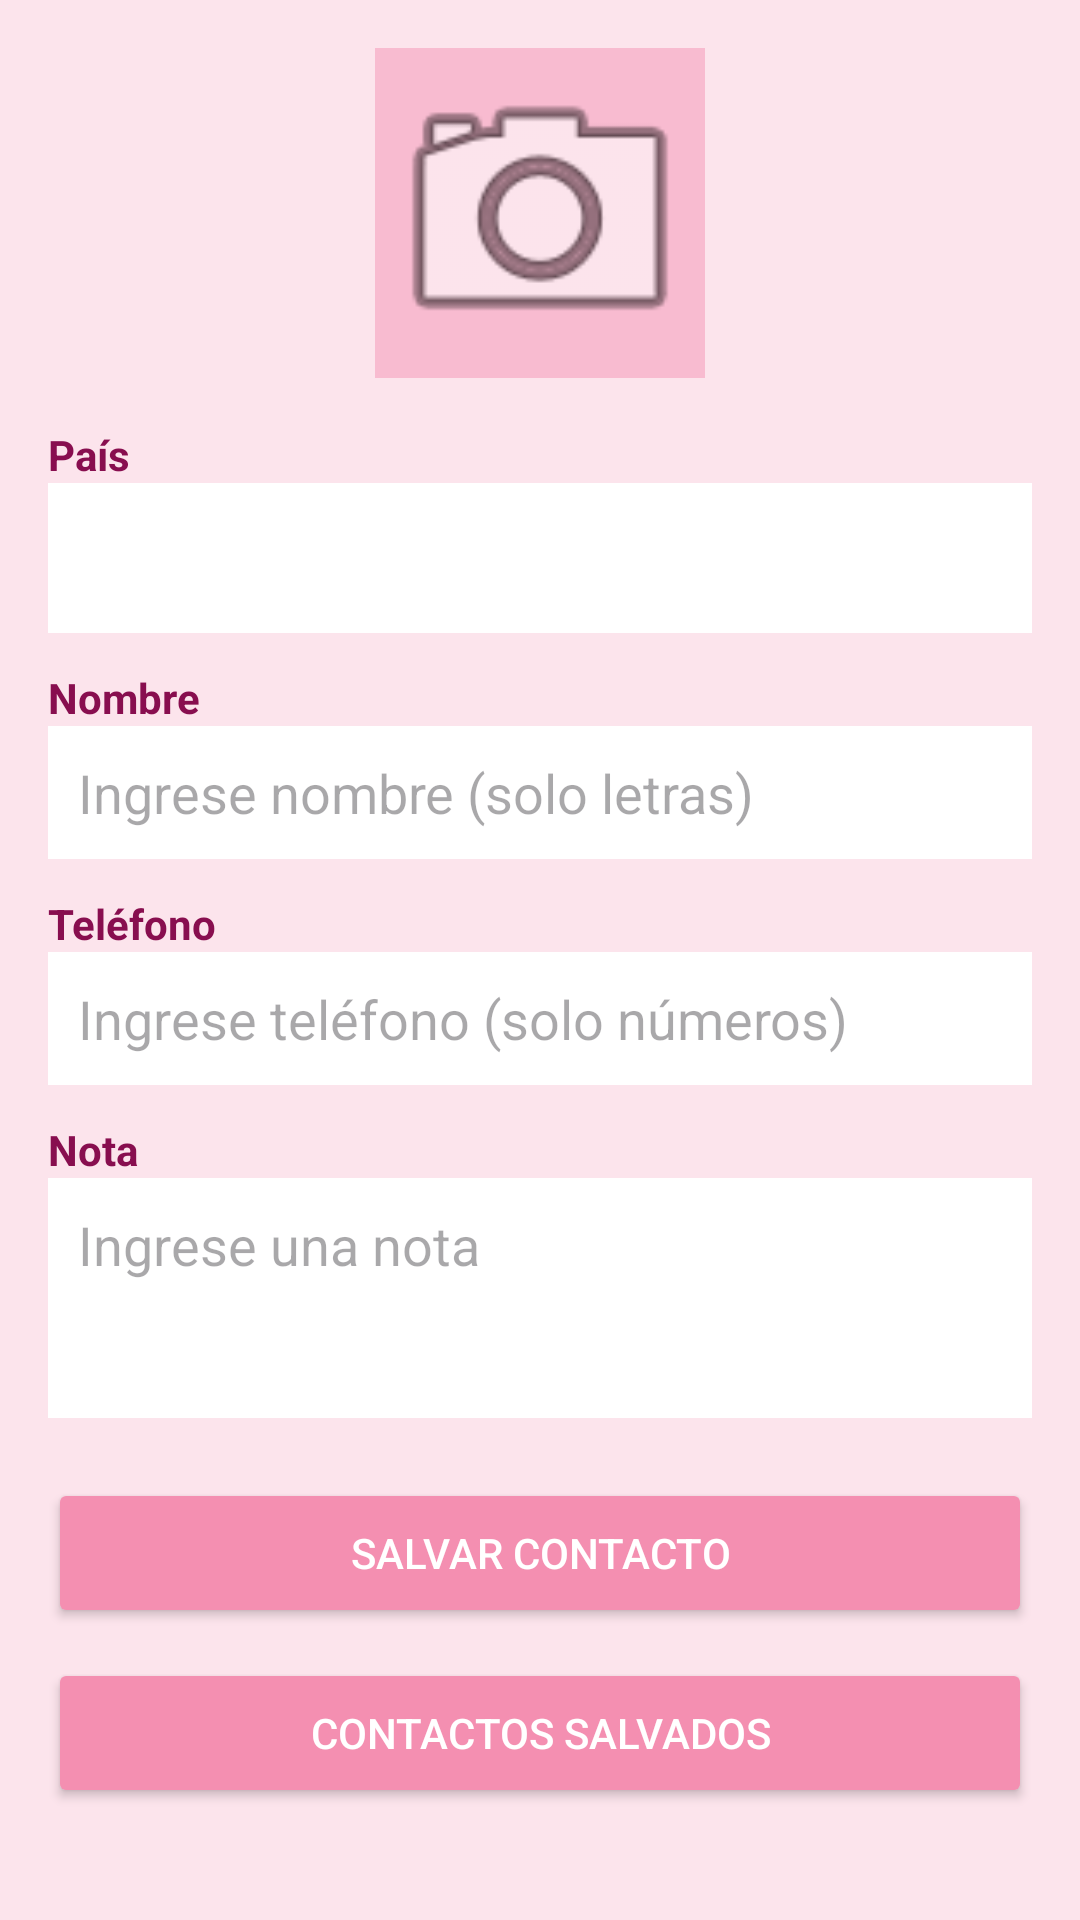

Icons on this 1080 × 1920 Android screen, each with its box as box(x1, y1, x2, y2):
camera: box(375, 48, 705, 378)
